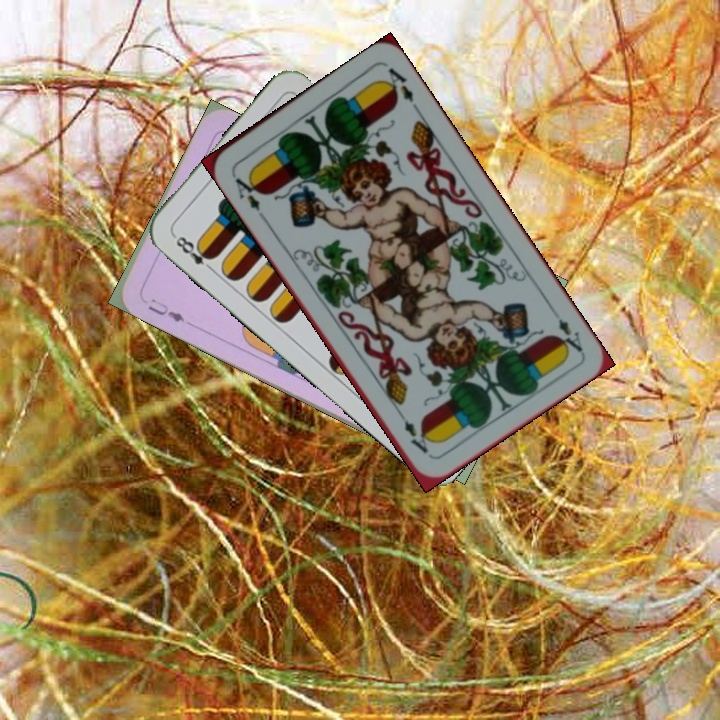E8: (169, 230, 218, 275)
EA: (546, 303, 586, 356), (227, 169, 264, 214)
EU: (143, 294, 188, 325)
